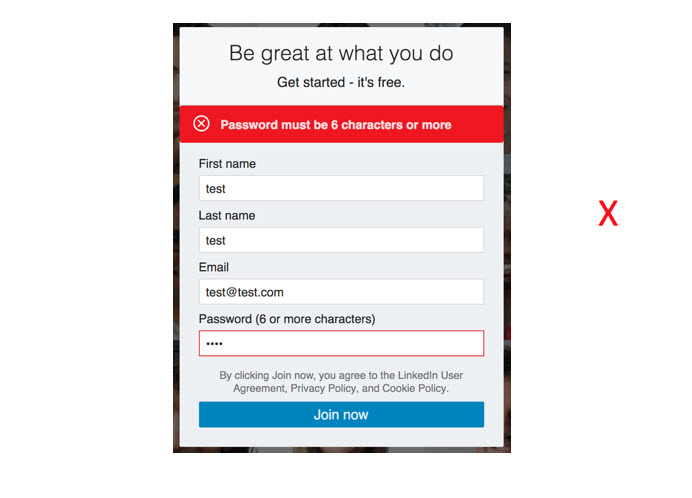error_field: (198, 328, 485, 356)
error_message: (219, 118, 452, 133)
